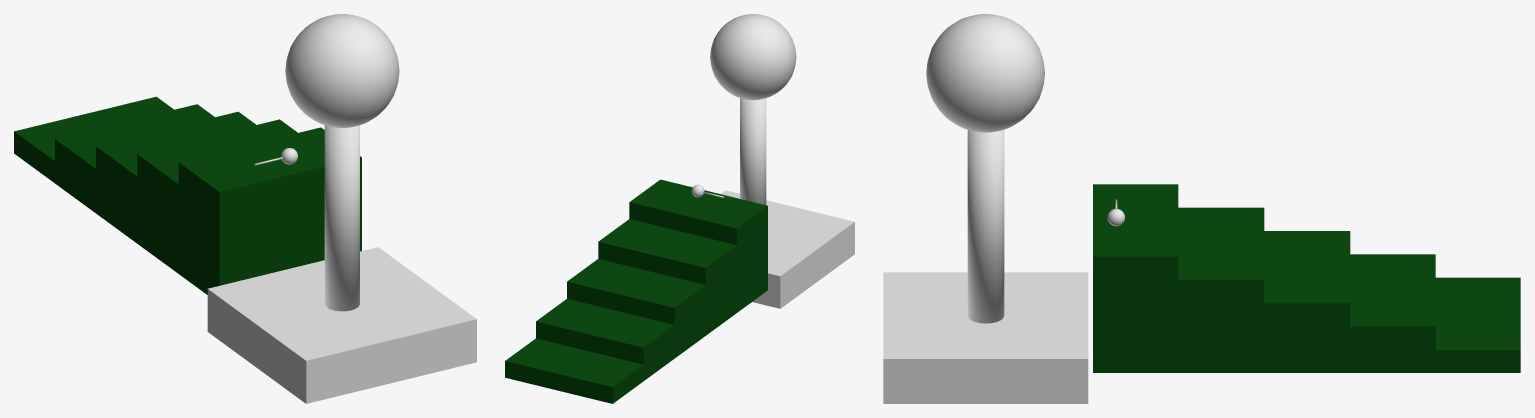
The model's file is VanDerGrafEscalado.fbx.
3 views of the same model, side by side, from view 1: azimuth 30°, elevation 25°; view 2: azimuth 150°, elevation 25°; view 3: azimuth 270°, elevation 25° (orthographic). The views are drawn at different scales.
Parts seen in each view (by area): view 1: Escaleras.001, Base VanDerGraaf.001, Esfera van der grande.001, Tubo Van der.001; view 2: Escaleras.001, Base VanDerGraaf.001, Esfera van der grande.001, Tubo Van der.001; view 3: Escaleras.001, Base VanDerGraaf.001, Esfera van der grande.001, Tubo Van der.001.
Part boxes in pixels (box(x1,y1,x2,y2)): Escaleras.001: box(14, 96, 361, 294); Base VanDerGraaf.001: box(207, 247, 476, 403); Esfera van der grande.001: box(285, 14, 399, 127); Tubo Van der.001: box(324, 125, 359, 311); Escaleras.001: box(505, 179, 767, 403); Base VanDerGraaf.001: box(721, 190, 854, 308); Esfera van der grande.001: box(710, 14, 796, 100); Tubo Van der.001: box(740, 98, 766, 204); Escaleras.001: box(1093, 184, 1520, 372); Base VanDerGraaf.001: box(883, 272, 1088, 403); Esfera van der grande.001: box(926, 14, 1044, 132); Tubo Van der.001: box(967, 129, 1004, 323).
Bounding box in the file's own units: 120 × 372 × 220.
